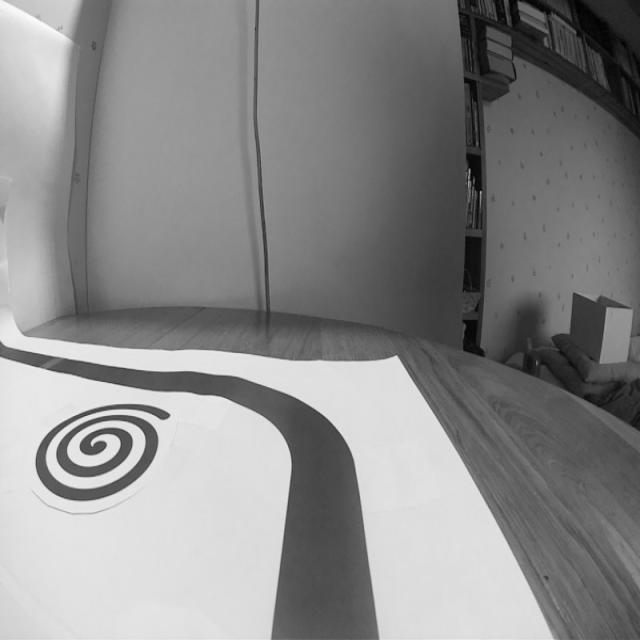lineStraight: (259, 491, 389, 640)
nest: (31, 396, 173, 507)
